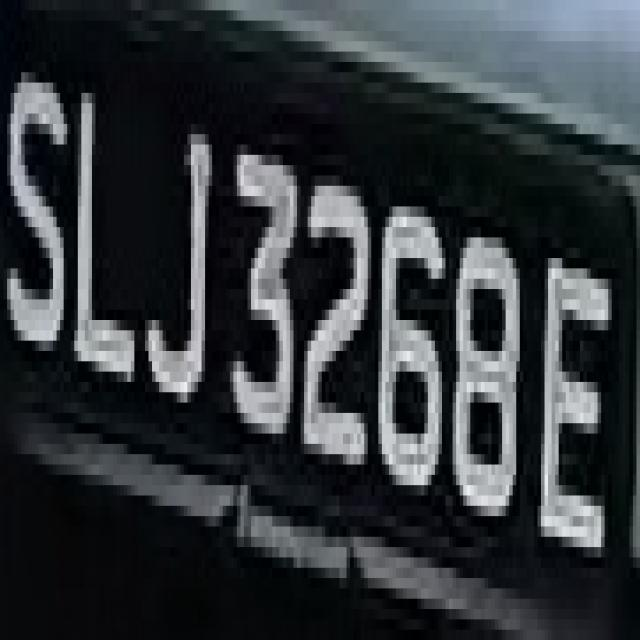2: (294, 145, 372, 516)
3: (226, 103, 294, 465)
6: (378, 144, 442, 537)
8: (438, 186, 520, 568)
E: (538, 186, 608, 588)
J: (142, 72, 220, 434)
L: (67, 51, 145, 402)
S: (7, 31, 71, 392)
